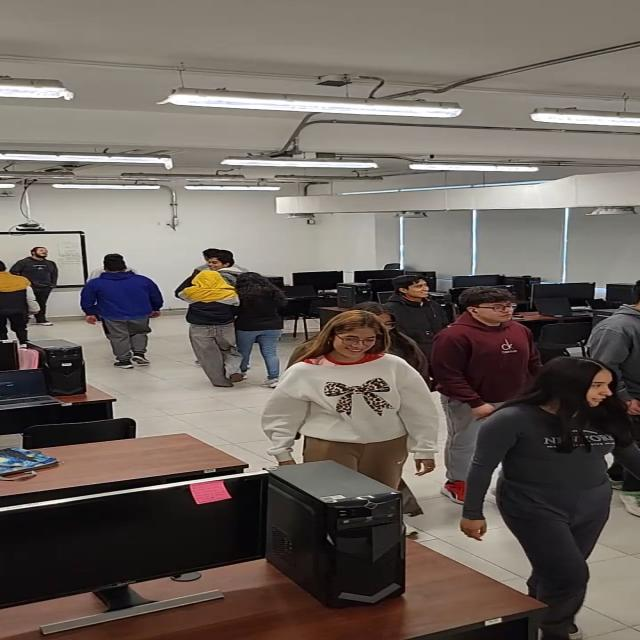Persona: (470, 347, 640, 640), (274, 313, 408, 512), (431, 289, 523, 417), (78, 256, 158, 370), (174, 268, 236, 390), (229, 267, 286, 388), (13, 244, 68, 326), (0, 258, 40, 348), (390, 272, 447, 327)
